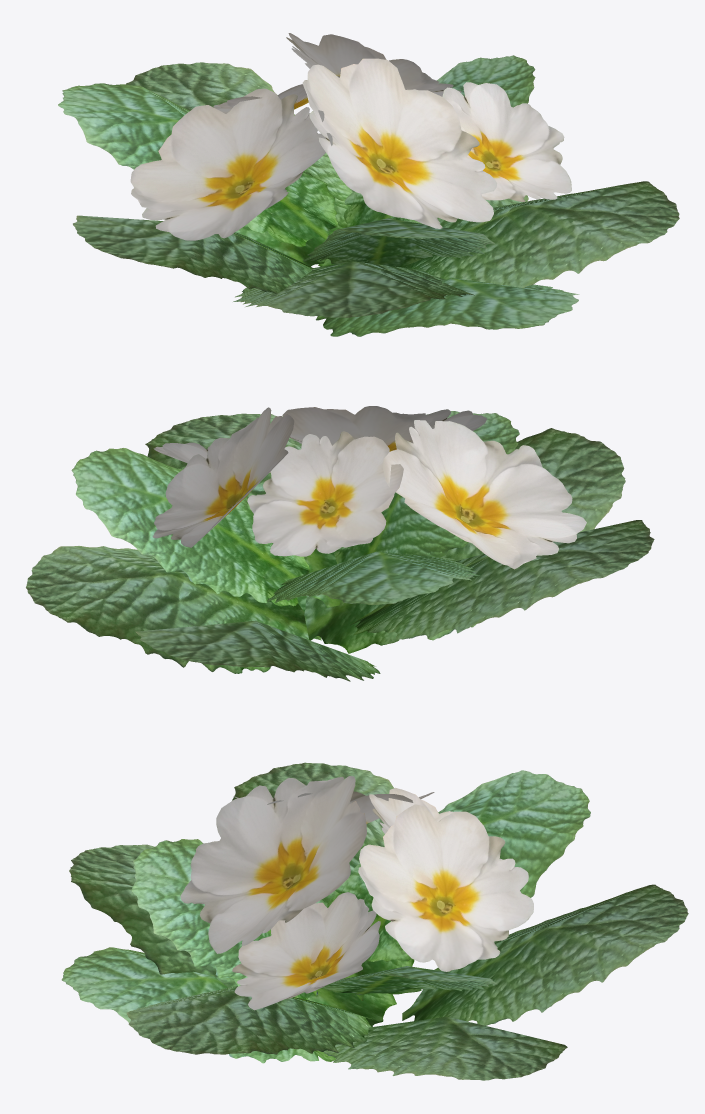
File: PrimroseAcaulis1F.fbx
3 views of the same model, one above another, from view 1: azimuth 30°, elevation 25°; view 2: azimuth 150°, elevation 25°; view 3: azimuth 270°, elevation 25° (orthographic). The views are drawn at different scales.
Parts seen in each view (by area): view 1: PrimroseAcaulis1F_LOD0; view 2: PrimroseAcaulis1F_LOD0; view 3: PrimroseAcaulis1F_LOD0.
Part boxes in pixels (x1,y1,x2,y2): PrimroseAcaulis1F_LOD0: (58,33,679,336); PrimroseAcaulis1F_LOD0: (26,406,654,681); PrimroseAcaulis1F_LOD0: (61,762,688,1080).
Size of what is drawn, in the model's own units: 43.8 by 20.22 by 44.61.
